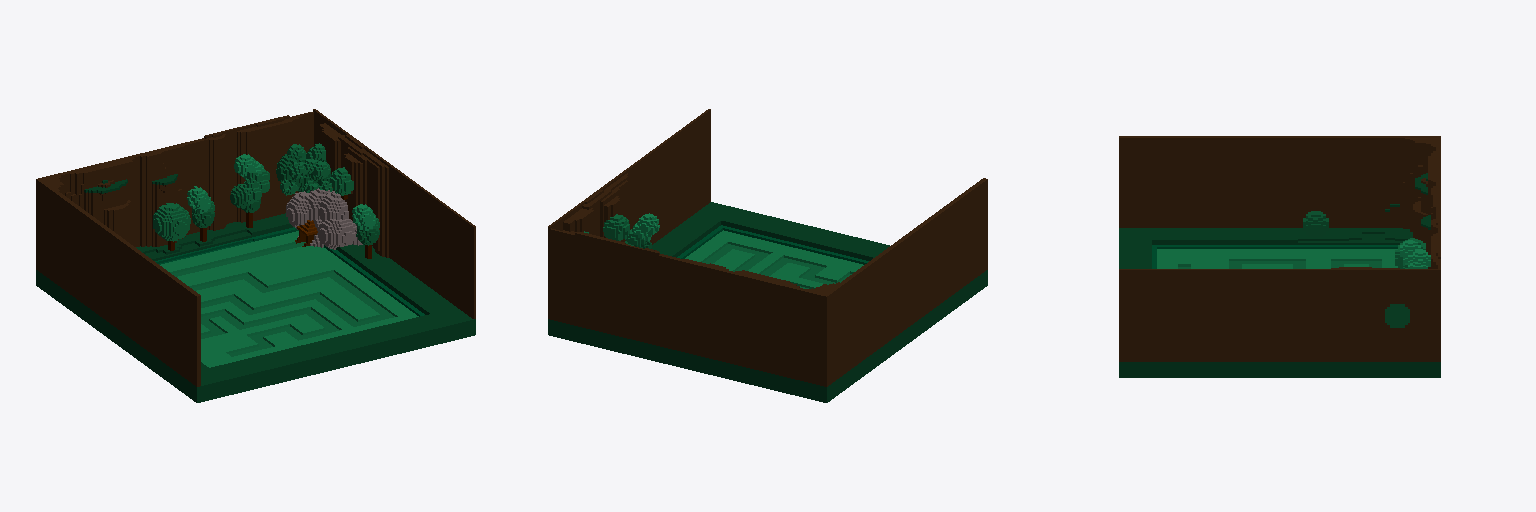
3 views of the same model, side by side, from view 1: azimuth 30°, elevation 25°; view 2: azimuth 150°, elevation 25°; view 3: azimuth 270°, elevation 25° (orthographic).
Bounding box in the file's own units: 126 × 47 × 126.
1 materials, 1 textured.